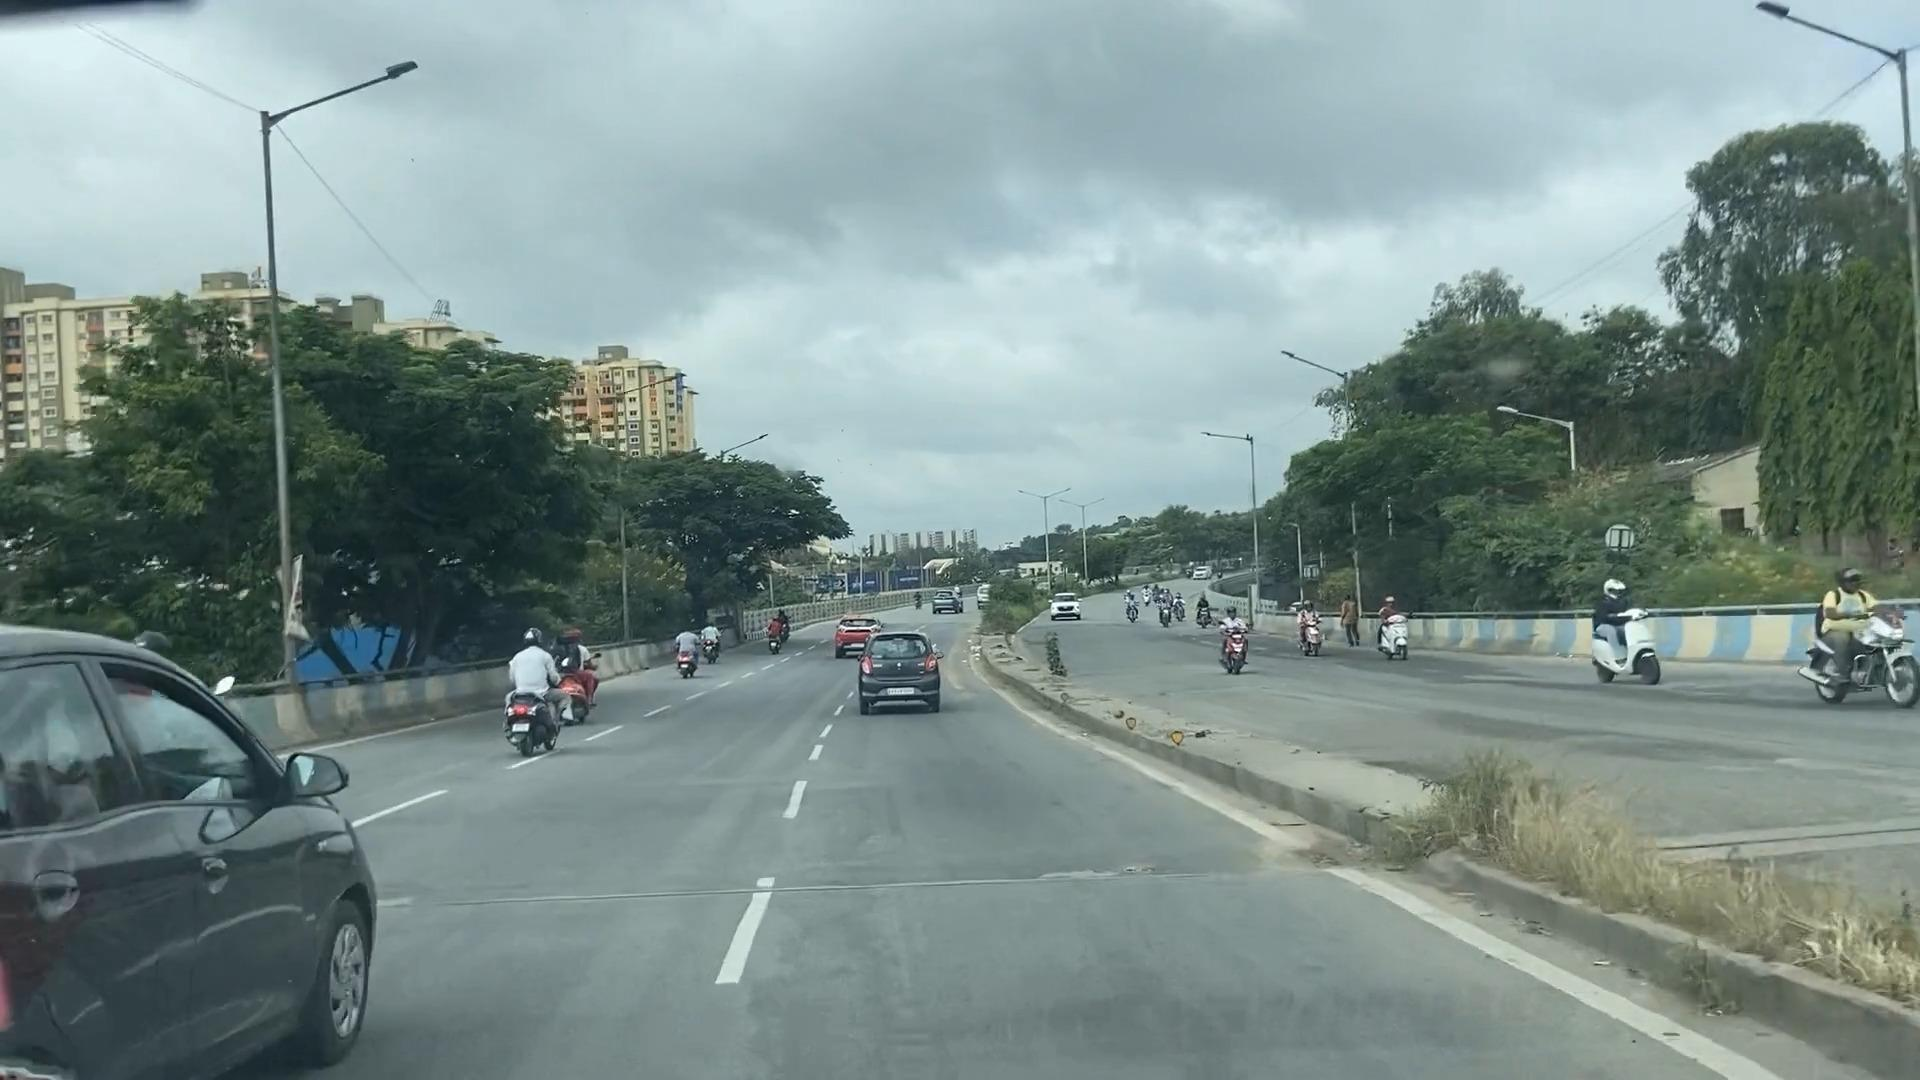LMV: (856, 632, 924, 700), (514, 634, 558, 738)
UnsurfacedRoad: (419, 868, 766, 922), (786, 870, 1344, 898)
